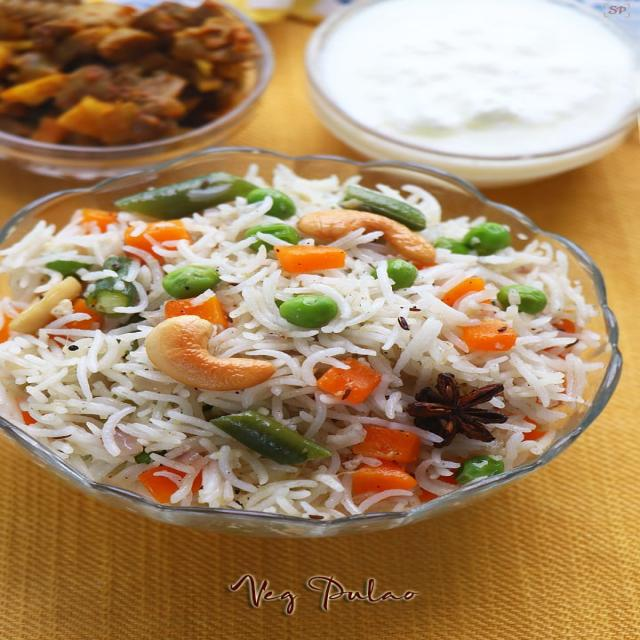veg palav: (0, 156, 631, 534)
